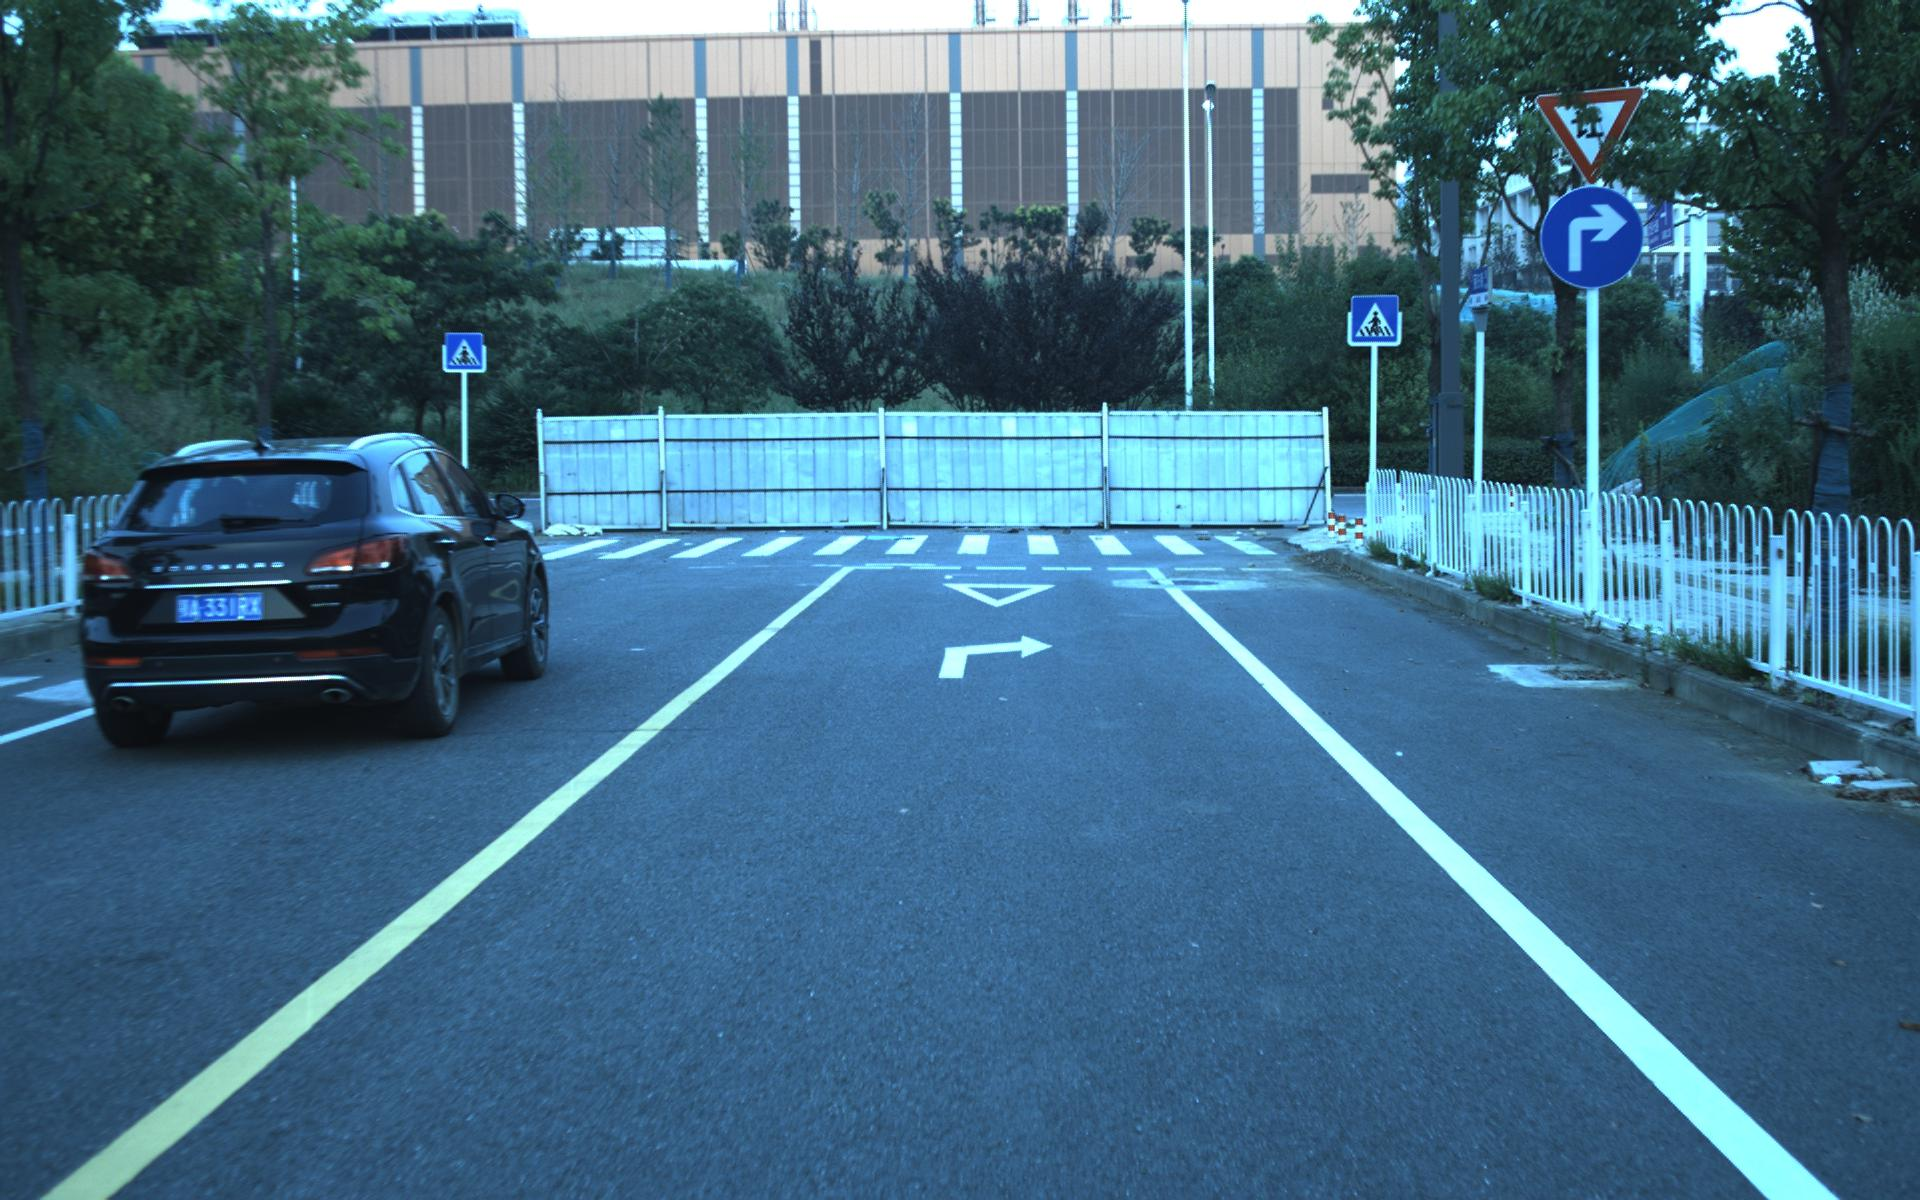Car: (59, 420, 561, 753)
